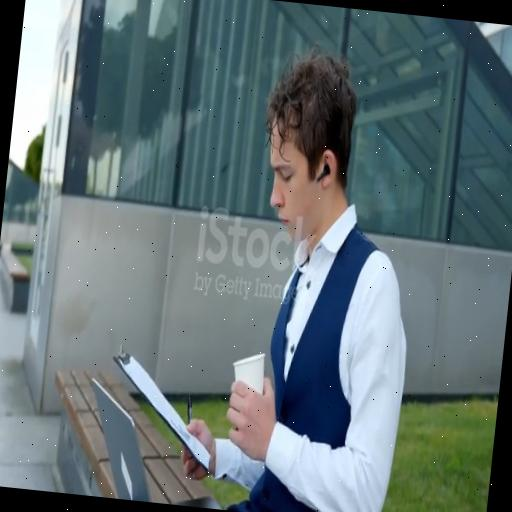earphone: (314, 162, 336, 187)
